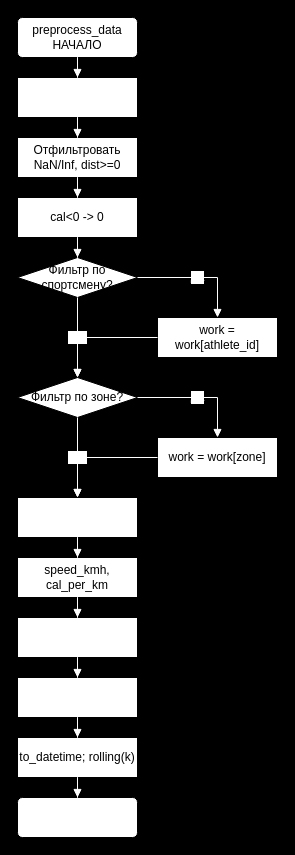
Some shapes in this 295 by 855 pixel diagram are drawn without their labels. The shapes that lost their labels are listed below. From the top down, each one's centre as x and y in pixels, then its label:
At pixel 77 97: "work = df_raw.copy()".
At pixel 77 517: "Фильтр pace <= max_pace".
At pixel 77 637: "IQR-clip pace, cal_per_km".
At pixel 77 697: "category, pd.cut(dist)".
At pixel 77 817: "КОНЕЦ preprocess_data".
